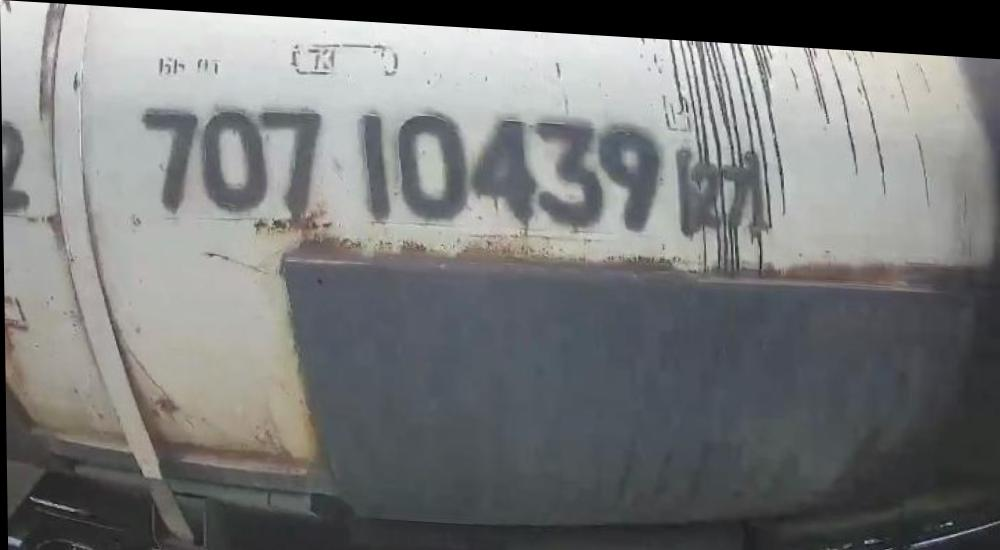Wagon-number: (135, 91, 671, 237)
